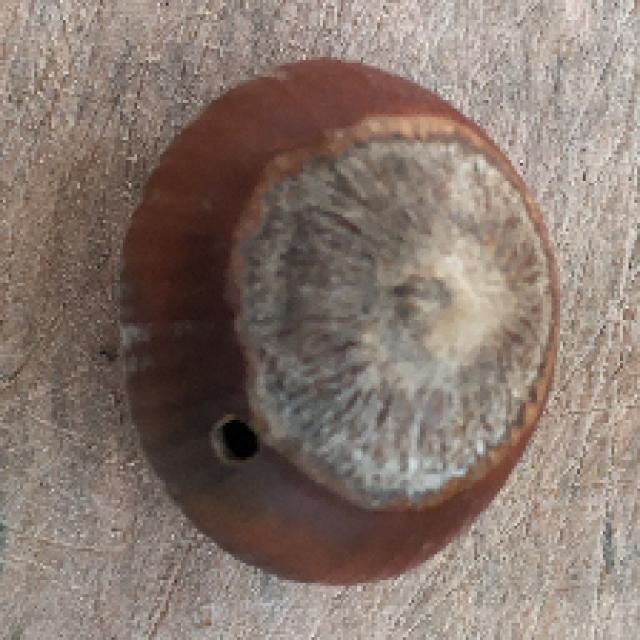DamagedHazelnut: (117, 66, 562, 581)
